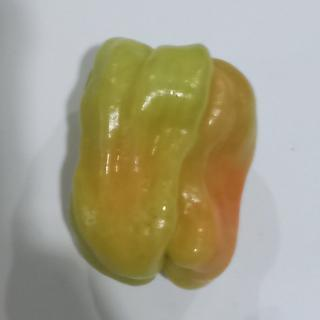Grade-A: (64, 33, 262, 288)
